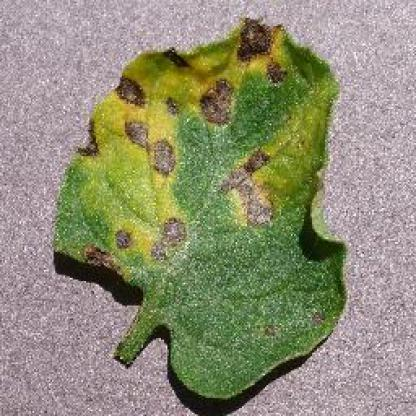bad leaf: (213, 148, 299, 241), (97, 212, 210, 272), (119, 80, 185, 182), (233, 17, 291, 95), (200, 68, 247, 138), (68, 234, 127, 273), (56, 108, 106, 151)
